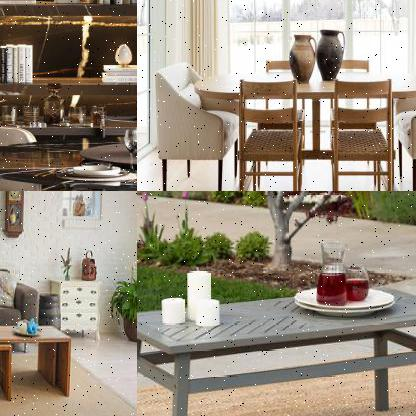table: (137, 282, 415, 415), (188, 67, 415, 190), (0, 131, 136, 190), (0, 322, 75, 410)
